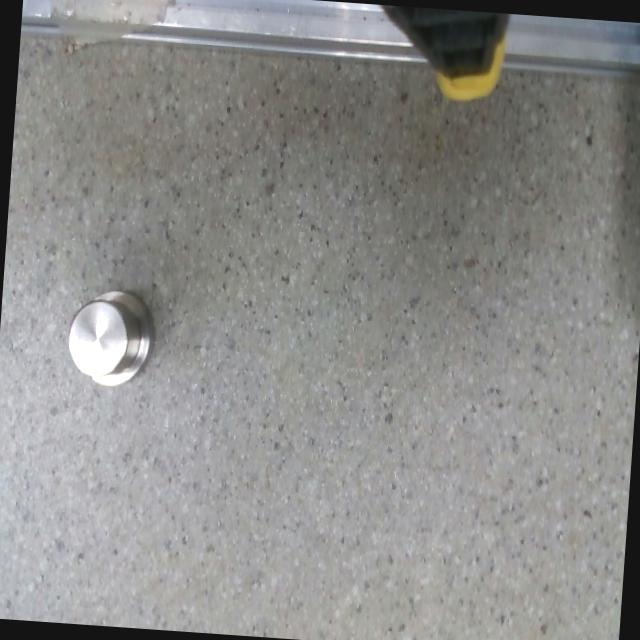sensor: (62, 286, 153, 390)
